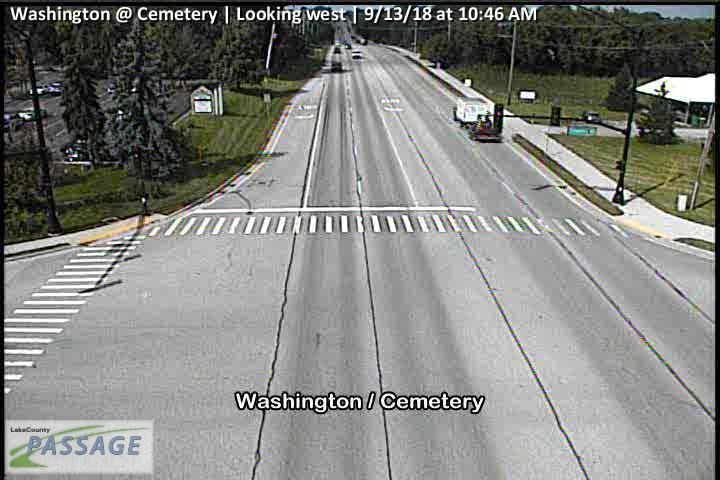Truck: (453, 95, 503, 144)
